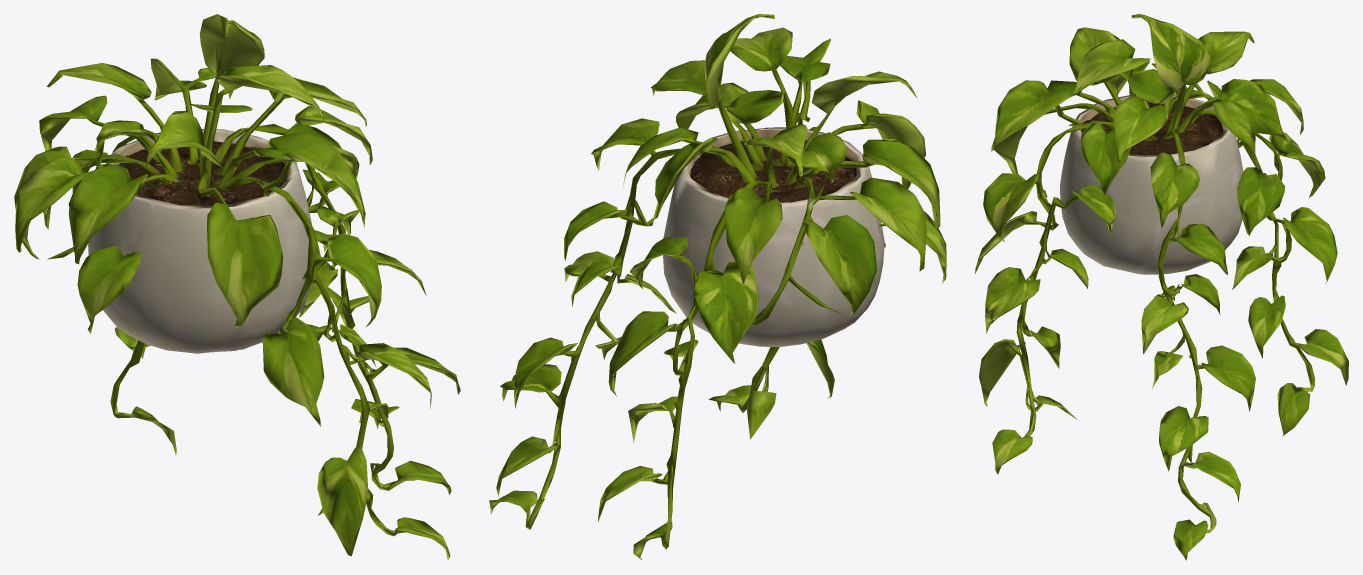
Rendered from pendente.glb.
3 views of the same model, side by side, from view 1: azimuth 30°, elevation 25°; view 2: azimuth 150°, elevation 25°; view 3: azimuth 270°, elevation 25° (orthographic). The views are drawn at different scales.
Parts seen in each view (by area): view 1: tripo_node_fcf8cf83-0ce0-4d27-ac8c-4bd81b829cdb; view 2: tripo_node_fcf8cf83-0ce0-4d27-ac8c-4bd81b829cdb; view 3: tripo_node_fcf8cf83-0ce0-4d27-ac8c-4bd81b829cdb.
Part boxes in pixels (bbox=[...]): tripo_node_fcf8cf83-0ce0-4d27-ac8c-4bd81b829cdb: bbox=[14, 14, 460, 560]; tripo_node_fcf8cf83-0ce0-4d27-ac8c-4bd81b829cdb: bbox=[489, 14, 946, 559]; tripo_node_fcf8cf83-0ce0-4d27-ac8c-4bd81b829cdb: bbox=[975, 14, 1348, 560].
Bounding box in the file's own units: 0.8256 × 0.9983 × 0.7547.
Materials: 1 (1 with a texture image).
